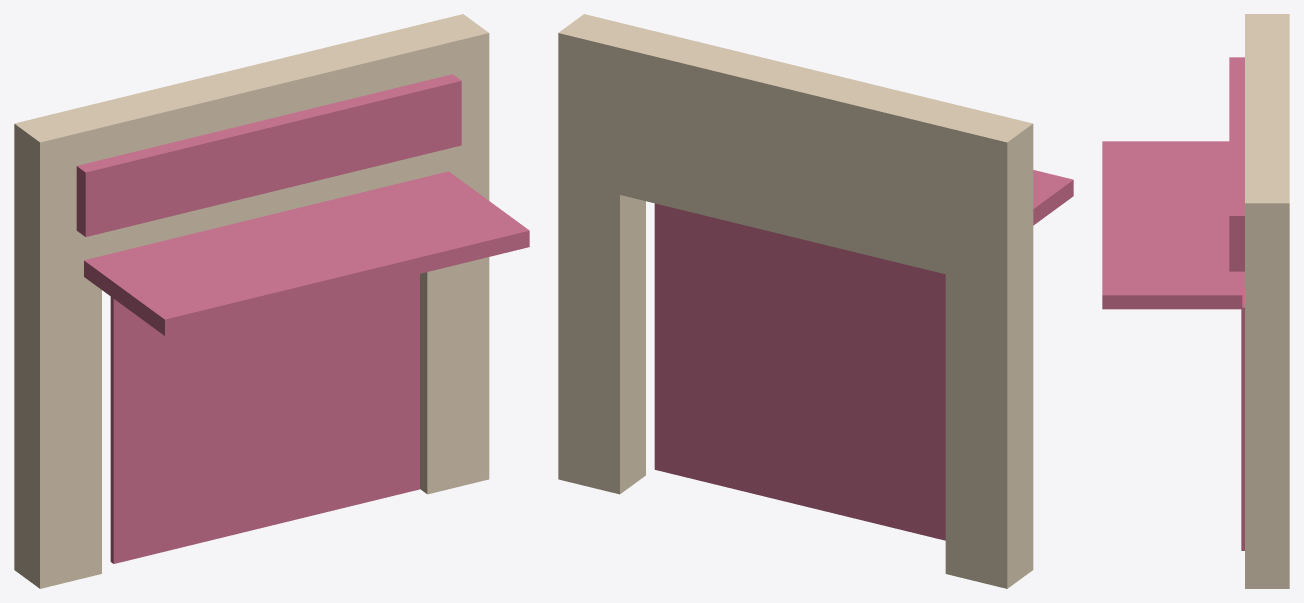
Rendered from bh_souq_shop_bakery_01_lod0.glb.
3 views of the same model, side by side, from view 1: azimuth 30°, elevation 25°; view 2: azimuth 150°, elevation 25°; view 3: azimuth 270°, elevation 25° (orthographic). The views are drawn at different scales.
Visible parts, largest first — view 1: bh_souq_shop_bakery_01_infill, bh_souq_shop_bakery_01_left, bh_souq_shop_bakery_01_awning, bh_souq_shop_bakery_01_fascia, bh_souq_shop_bakery_01_top, bh_souq_shop_bakery_01_right; view 2: bh_souq_shop_bakery_01_infill, bh_souq_shop_bakery_01_top, bh_souq_shop_bakery_01_left, bh_souq_shop_bakery_01_right, bh_souq_shop_bakery_01_awning; view 3: bh_souq_shop_bakery_01_awning, bh_souq_shop_bakery_01_right, bh_souq_shop_bakery_01_top, bh_souq_shop_bakery_01_fascia, bh_souq_shop_bakery_01_left, bh_souq_shop_bakery_01_infill.
Part boxes in pixels (x1,y1,x2,y2): bh_souq_shop_bakery_01_infill: [110, 274, 419, 563]; bh_souq_shop_bakery_01_left: [14, 108, 101, 588]; bh_souq_shop_bakery_01_awning: [84, 171, 529, 335]; bh_souq_shop_bakery_01_fascia: [76, 74, 461, 236]; bh_souq_shop_bakery_01_top: [76, 29, 427, 255]; bh_souq_shop_bakery_01_right: [402, 14, 489, 494]; bh_souq_shop_bakery_01_infill: [654, 203, 945, 540]; bh_souq_shop_bakery_01_top: [620, 29, 970, 274]; bh_souq_shop_bakery_01_left: [945, 108, 1033, 588]; bh_souq_shop_bakery_01_right: [558, 14, 645, 494]; bh_souq_shop_bakery_01_awning: [1033, 170, 1073, 225]; bh_souq_shop_bakery_01_awning: [1102, 141, 1242, 309]; bh_souq_shop_bakery_01_right: [1245, 177, 1289, 588]; bh_souq_shop_bakery_01_top: [1245, 40, 1289, 177]; bh_souq_shop_bakery_01_fascia: [1229, 57, 1244, 271]; bh_souq_shop_bakery_01_left: [1245, 14, 1289, 39]; bh_souq_shop_bakery_01_infill: [1241, 271, 1244, 550].
Size of the model in its own units: 4 by 3.8 by 1.68.
